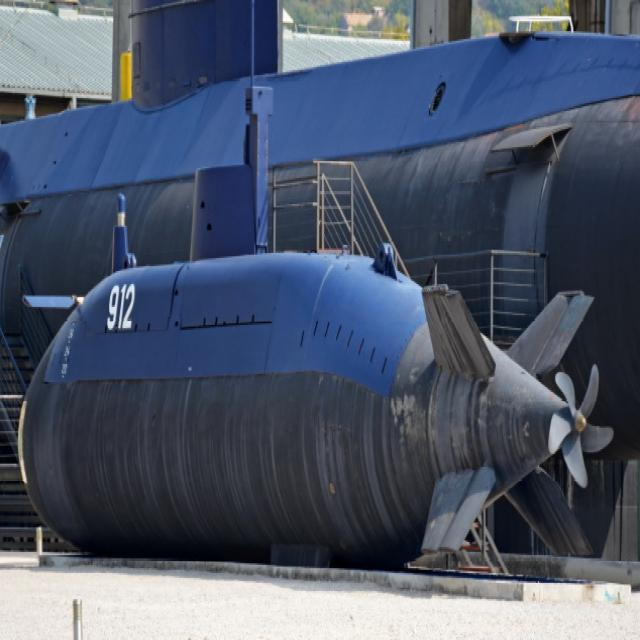submarine: (1, 1, 640, 455), (16, 249, 599, 568)
